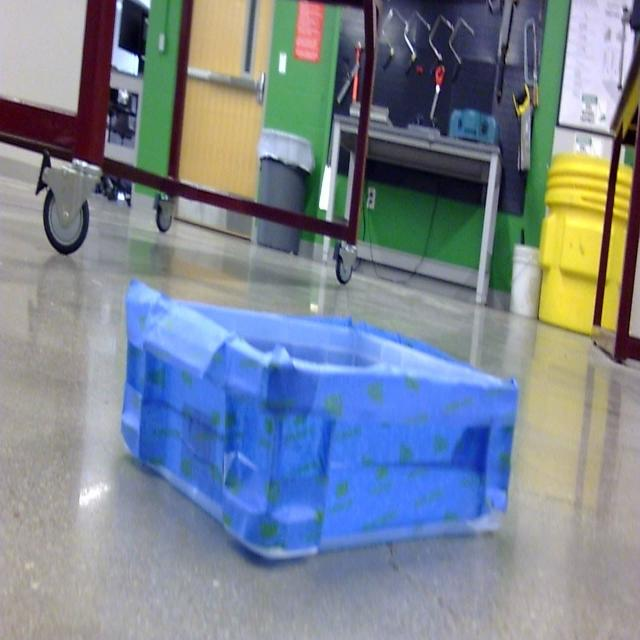bucket: (119, 281, 520, 566)
